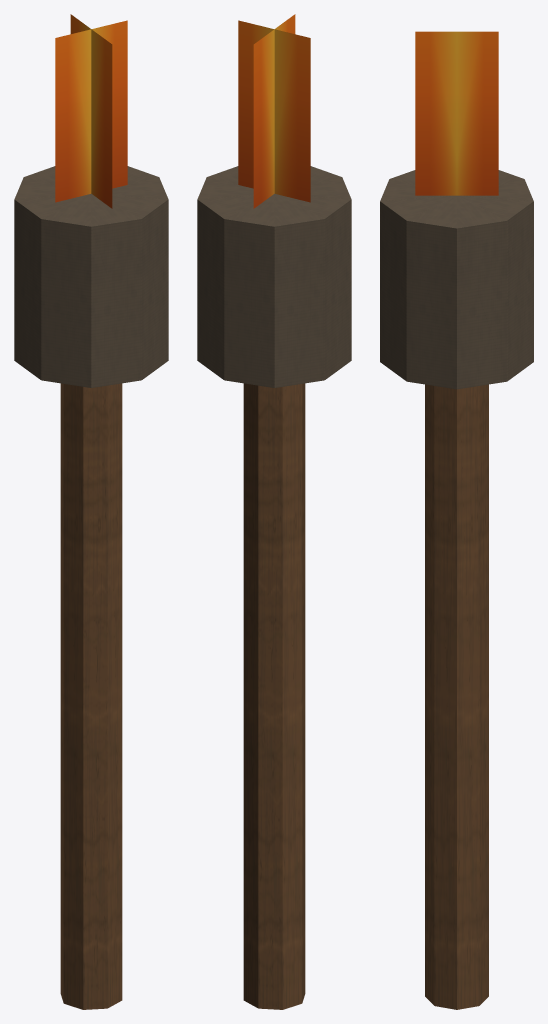
File: pr-009_torch__dying.obj
3 renders of one model, left to right at view 1: azimuth 30°, elevation 25°; view 2: azimuth 150°, elevation 25°; view 3: azimuth 270°, elevation 25°, orthographic.
Parts seen in each view (by area): view 1: pr-009_torch__dying; view 2: pr-009_torch__dying; view 3: pr-009_torch__dying.
Boxes of the visible parts, box(x1,y1,x2,y2) form: pr-009_torch__dying: box(14, 14, 168, 1009); pr-009_torch__dying: box(197, 14, 351, 1009); pr-009_torch__dying: box(380, 31, 533, 1009).
Size of the model in its own units: 0.2134 by 1.5 by 0.2167.
Materials: 3 (3 with a texture image).
